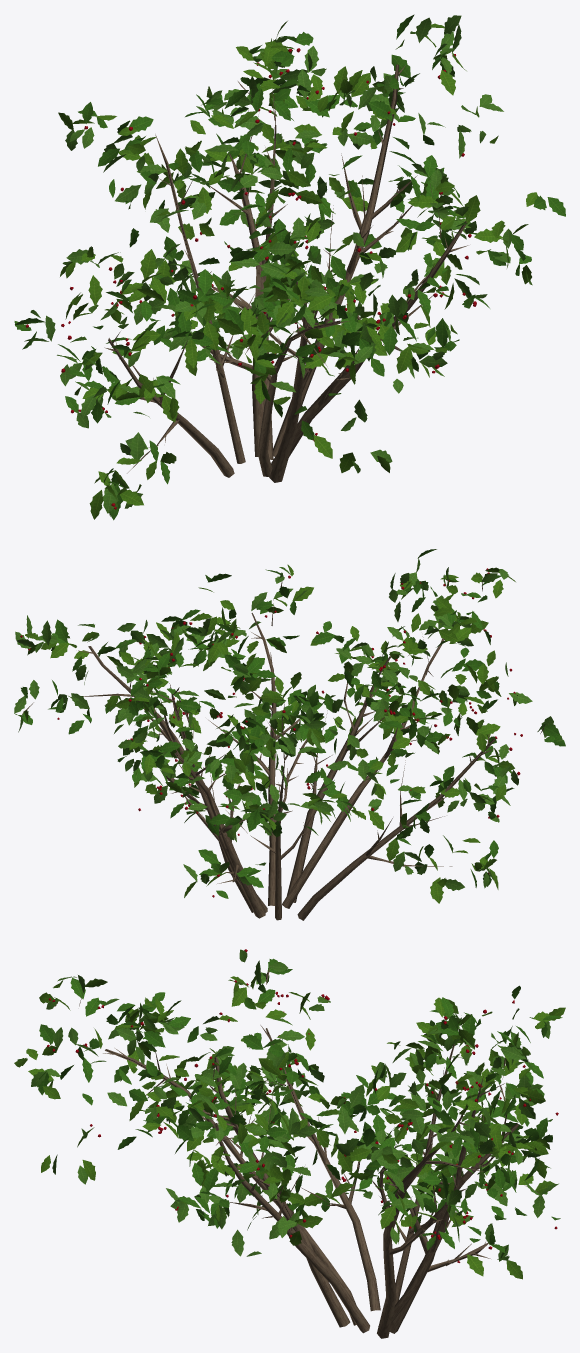
Rendered from bush_berry.glb.
The picture shows the model from 3 angles, top to bottom: view 1: azimuth 30°, elevation 25°; view 2: azimuth 150°, elevation 25°; view 3: azimuth 270°, elevation 25°; orthographic projection. The views are drawn at different scales.
Parts seen in each view (by area): view 1: bush_berry_leaf_c, bush_berry_leaf_a, bush_berry_leaf_b, bush_berry_bark, bush_berry_berry; view 2: bush_berry_leaf_b, bush_berry_leaf_a, bush_berry_leaf_c, bush_berry_bark, bush_berry_berry; view 3: bush_berry_leaf_a, bush_berry_leaf_c, bush_berry_leaf_b, bush_berry_bark, bush_berry_berry.
Part boxes in pixels (x1,y1,x2,y2): bush_berry_leaf_c: (58, 21, 537, 519); bush_berry_leaf_a: (24, 15, 532, 516); bush_berry_leaf_b: (14, 14, 565, 520); bush_berry_bark: (104, 64, 468, 482); bush_berry_berry: (25, 48, 476, 509); bush_berry_leaf_b: (21, 549, 565, 898); bush_berry_leaf_a: (14, 558, 562, 890); bush_berry_leaf_c: (24, 564, 517, 903); bush_berry_bark: (22, 581, 544, 920); bush_berry_berry: (20, 568, 522, 897); bush_berry_leaf_a: (31, 949, 558, 1261); bush_berry_leaf_c: (14, 971, 565, 1279); bush_berry_leaf_b: (17, 958, 562, 1260); bush_berry_bark: (79, 967, 539, 1338); bush_berry_berry: (47, 949, 558, 1262).
Size of the model in its own units: 2.06 by 1.37 by 1.92.
5 materials, 4 textured.
